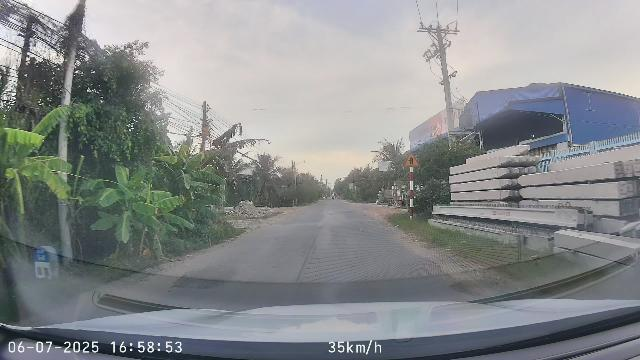207-giao-nhau-voi-duong-khong-uu-tien: (404, 151, 419, 167)
